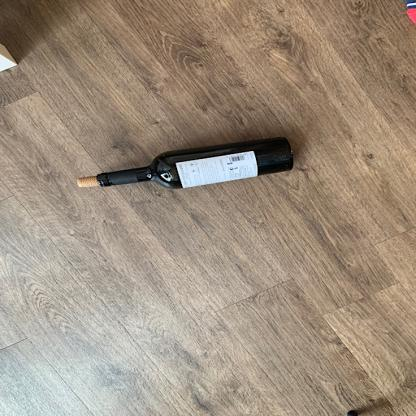trash: (73, 135, 297, 198)
